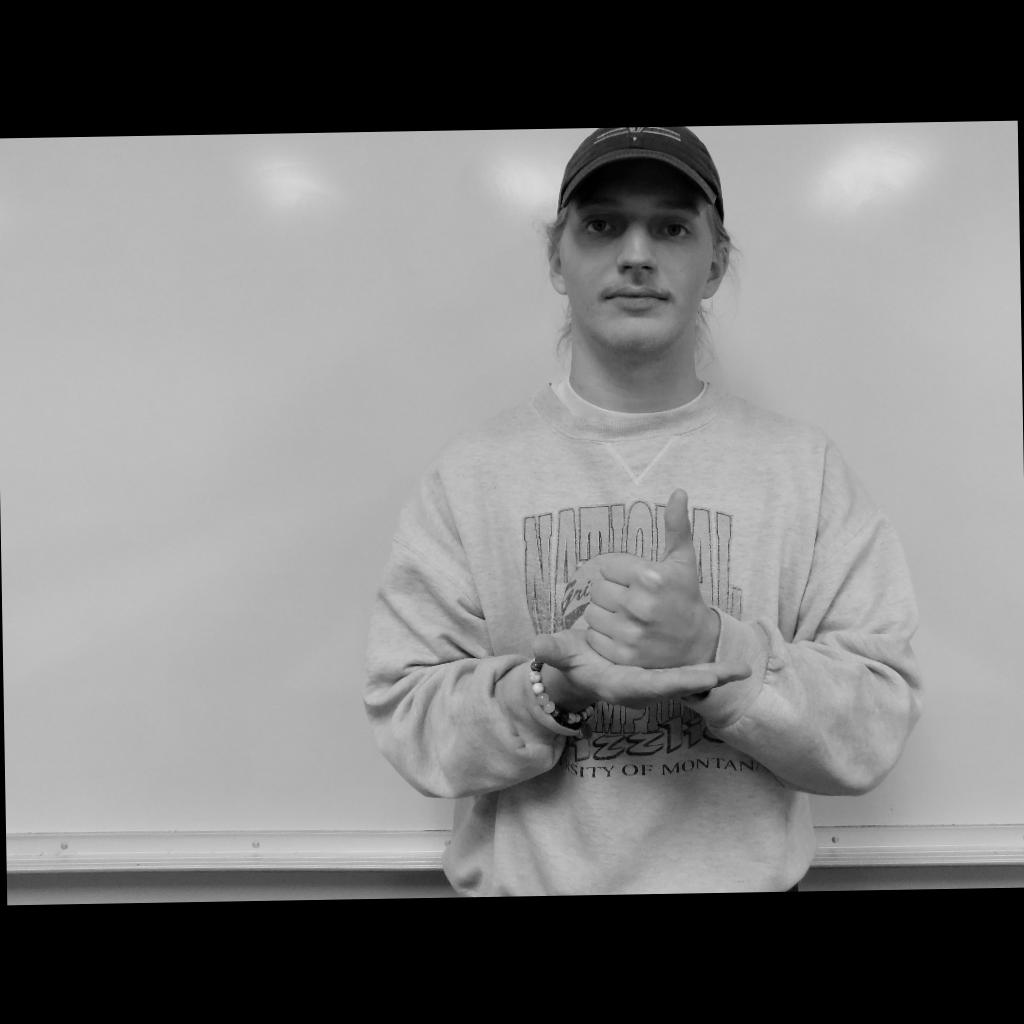help: (528, 486, 752, 712)
